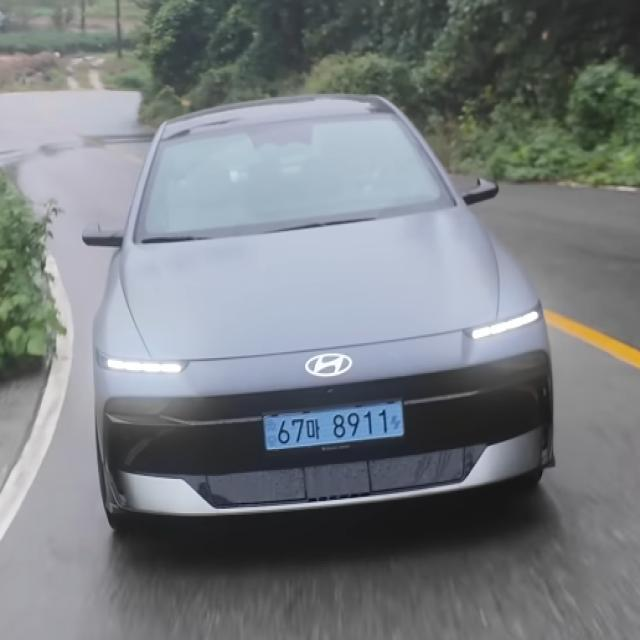car: (251, 394, 418, 462)
carev: (387, 398, 413, 448), (258, 410, 280, 451)
